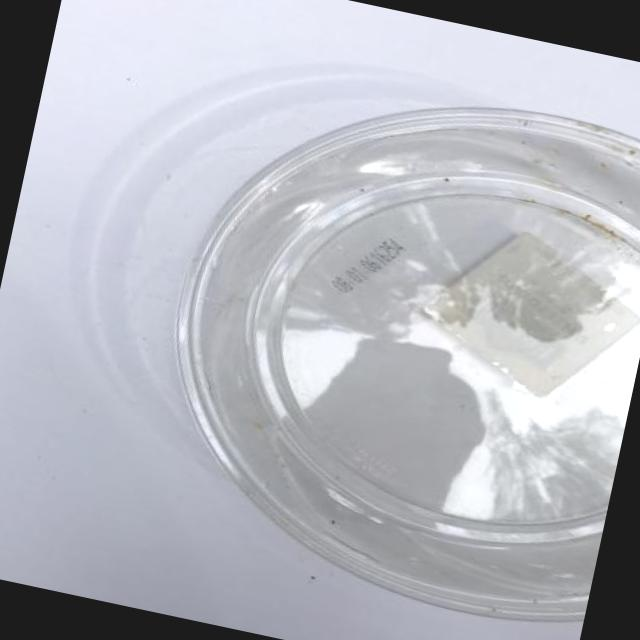plastic: (178, 109, 639, 620)
